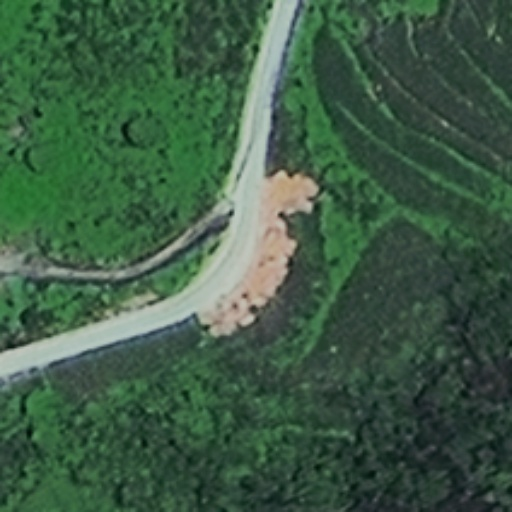landslide: (204, 172, 318, 334)
